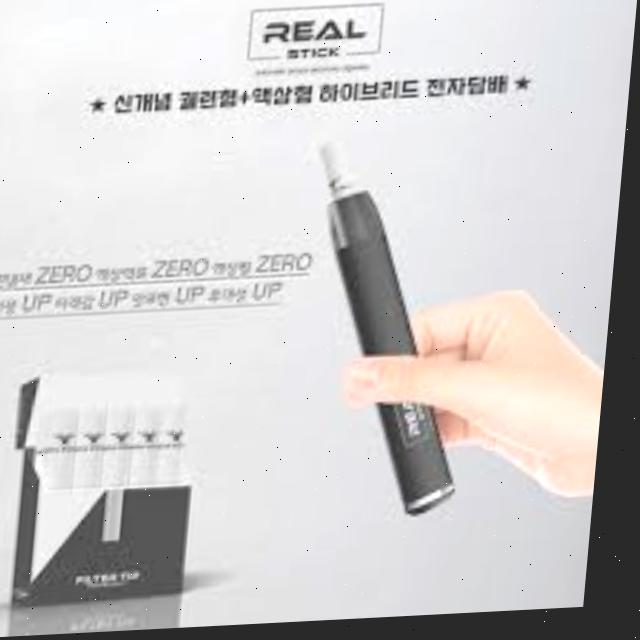vape: (295, 138, 489, 530)
